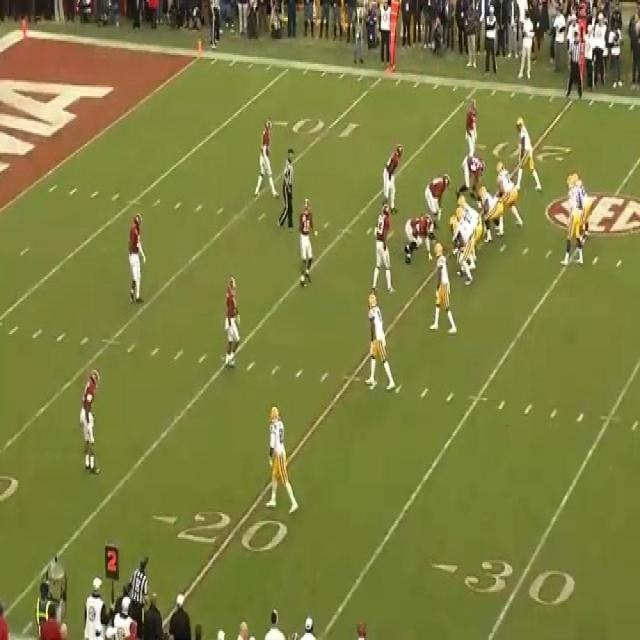center: (455, 194, 469, 208)
db: (81, 369, 103, 472), (222, 276, 240, 368), (256, 118, 277, 194), (129, 215, 146, 304), (465, 100, 480, 148)
lb: (299, 193, 319, 284), (384, 137, 396, 203)
qb: (567, 174, 580, 263)
skill: (270, 405, 300, 512), (368, 292, 393, 392), (432, 242, 457, 327), (372, 204, 395, 290), (513, 119, 536, 183), (574, 170, 589, 242)
